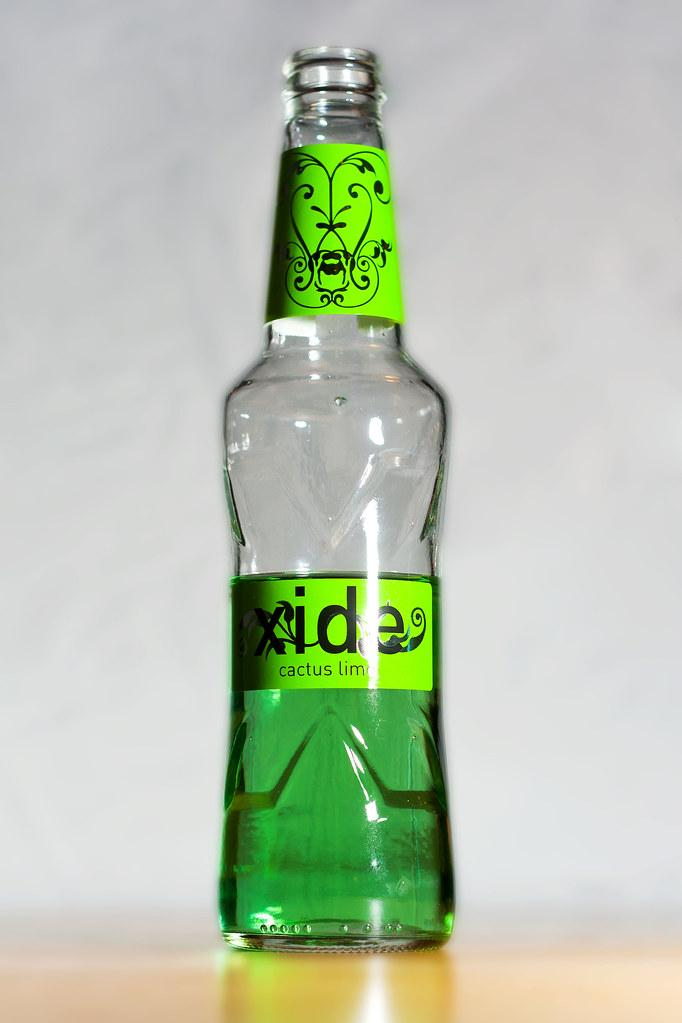bottle: (218, 44, 457, 954)
